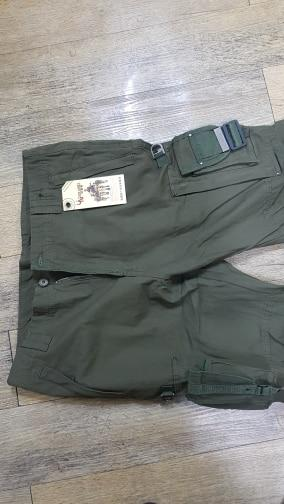pants: (25, 118, 284, 403)
